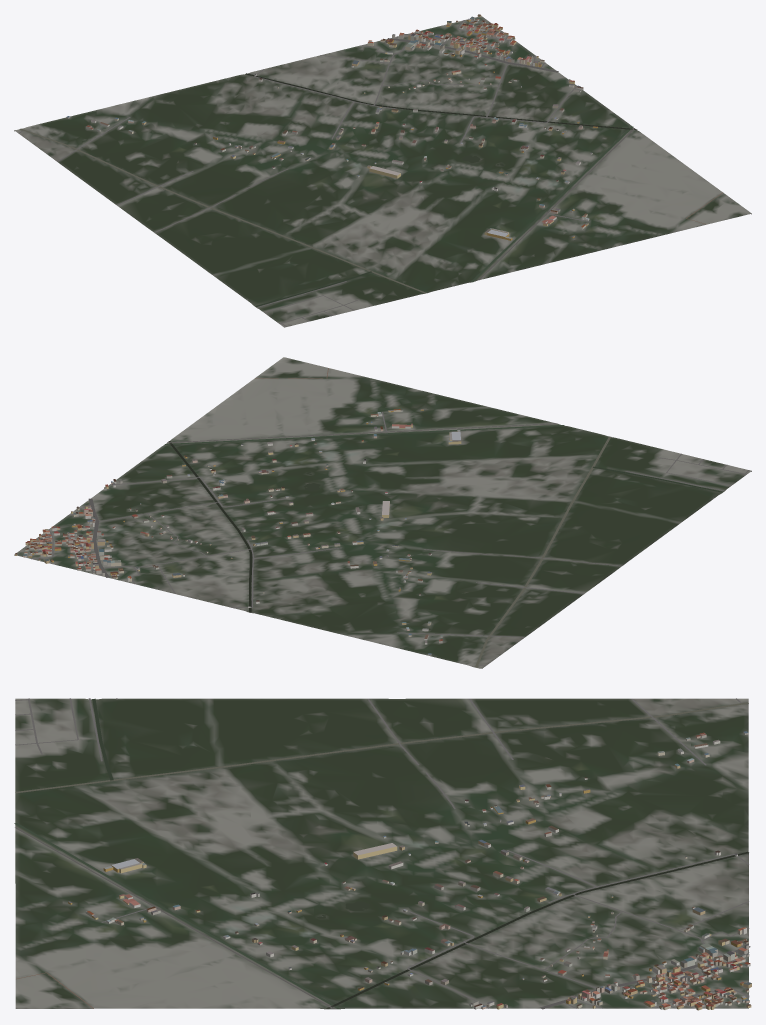
The picture shows the model from 3 angles, top to bottom: view 1: azimuth 30°, elevation 25°; view 2: azimuth 150°, elevation 25°; view 3: azimuth 270°, elevation 25°; orthographic projection. The views are drawn at different scales.
Parts seen in each view (by area): view 1: ground, buildings, roads, water; view 2: ground, buildings, roads, water; view 3: ground, buildings, water, roads.
Boxes of the visible parts, x1,y1,x2,y2 form: ground: [14, 16, 751, 327]; buildings: [66, 14, 597, 240]; roads: [18, 20, 722, 326]; water: [19, 73, 637, 306]; ground: [14, 357, 751, 668]; buildings: [15, 409, 461, 655]; roads: [25, 368, 749, 665]; water: [164, 425, 723, 667]; ground: [15, 698, 748, 1009]; buildings: [68, 731, 751, 1010]; water: [14, 698, 748, 1009]; roads: [15, 698, 750, 1009].
Bounding box in the file's own units: 1411 × 20.22 × 1411.
